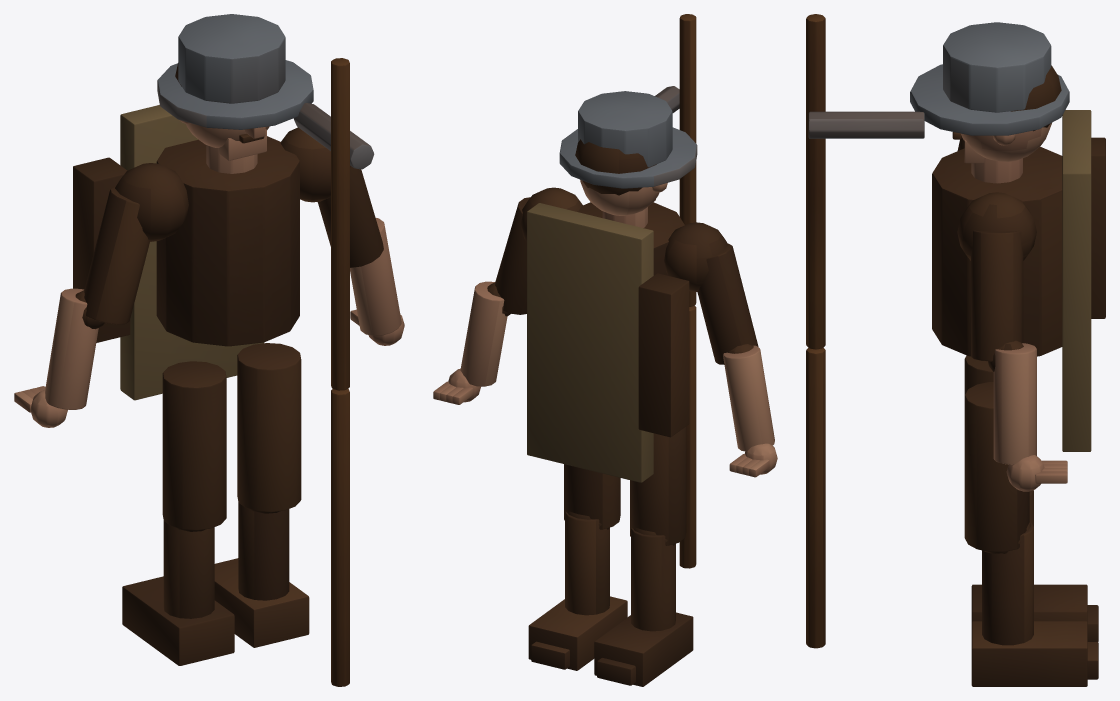
The model's file is unit_pathfinder.fbx.
3 renders of one model, left to right at view 1: azimuth 30°, elevation 25°; view 2: azimuth 150°, elevation 25°; view 3: azimuth 270°, elevation 25°, orthographic. The views are drawn at different scales.
Visible parts, largest first — view 1: unit_pathfinder; view 2: unit_pathfinder; view 3: unit_pathfinder.
Boxes of the visible parts, x1,y1,x2,y2 form: unit_pathfinder: (14,14,404,686); unit_pathfinder: (433,14,777,686); unit_pathfinder: (806,14,1105,686).
Size of the model in its own units: 1.18 by 1.97 by 0.827.
